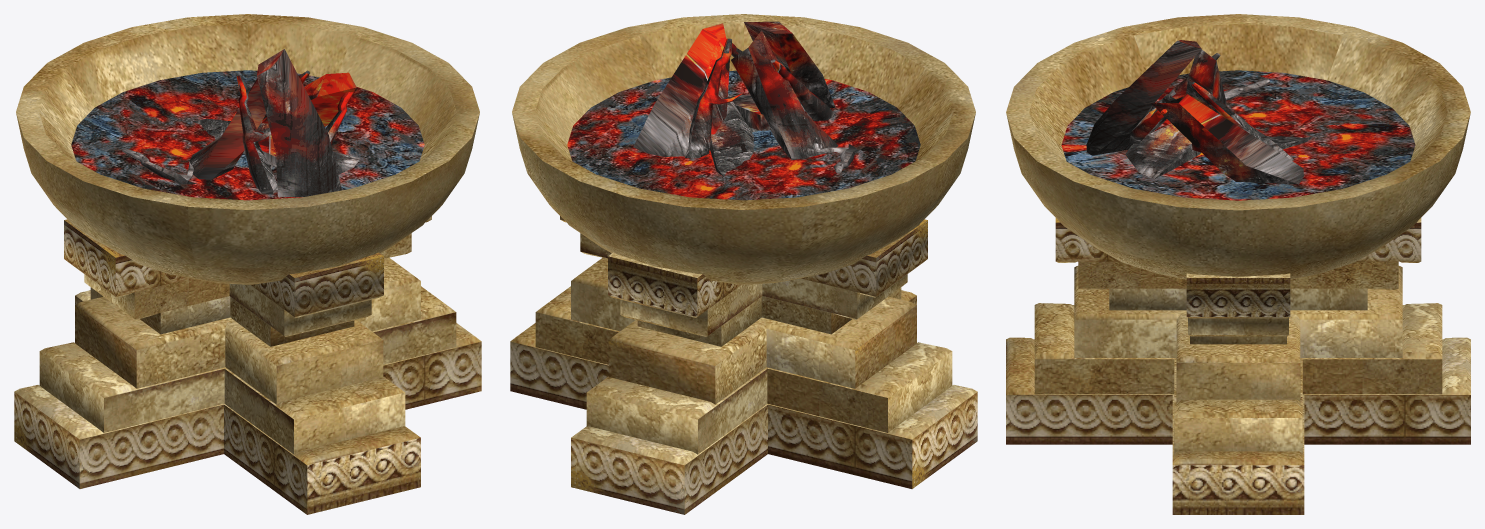
Rendered from firepit.fbx.
The picture shows the model from 3 angles, left to right: view 1: azimuth 30°, elevation 25°; view 2: azimuth 150°, elevation 25°; view 3: azimuth 270°, elevation 25°; orthographic projection.
Visible parts, largest first — view 1: firepit, base_1, base, Disc, firewood_ok, base_2, base_3; view 2: firepit, base_1, base, Disc, firewood_ok, base_2, base_3; view 3: firepit, base, base_1, Disc, firewood_ok, base_2, base_3.
Boxes of the visible parts, box(x1,y1,x2,y2) form: firepit: box(16, 14, 479, 284); base_1: box(14, 257, 481, 488); base: box(75, 287, 420, 514); Disc: box(71, 70, 424, 200); firewood_ok: box(122, 49, 360, 197); base_2: box(229, 252, 383, 346); base_3: box(64, 216, 431, 334); firepit: box(512, 14, 975, 284); base_1: box(510, 257, 977, 488); base: box(571, 287, 916, 514); Disc: box(567, 70, 920, 200); firewood_ok: box(633, 21, 857, 176); base_2: box(608, 252, 762, 346); base_3: box(560, 216, 927, 334); firepit: box(1006, 14, 1470, 279); base: box(1006, 266, 1470, 444); base_1: box(1172, 314, 1304, 514); Disc: box(1061, 70, 1415, 200); firewood_ok: box(1086, 40, 1313, 184); base_2: box(1055, 218, 1421, 310); base_3: box(1186, 273, 1290, 344).
Bounding box in the file's own units: 200 × 179 × 200.
